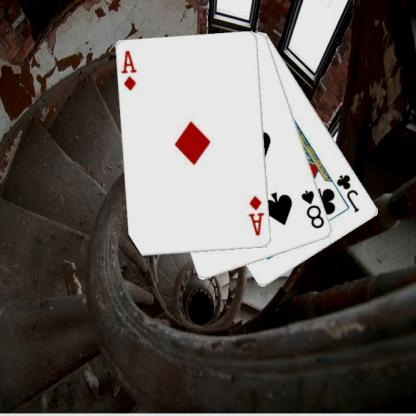8S: (299, 187, 326, 230)
AD: (246, 193, 266, 237), (119, 48, 139, 92)
JC: (334, 172, 361, 214)
